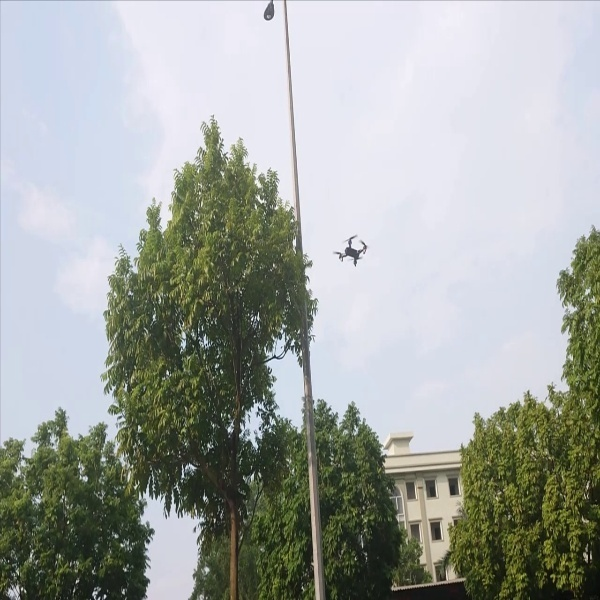drone: (329, 228, 376, 271)
